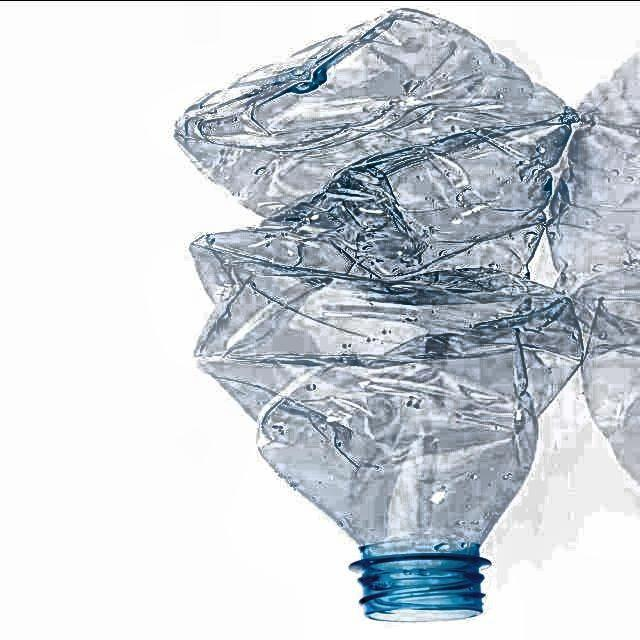plastic: (170, 6, 640, 628)
